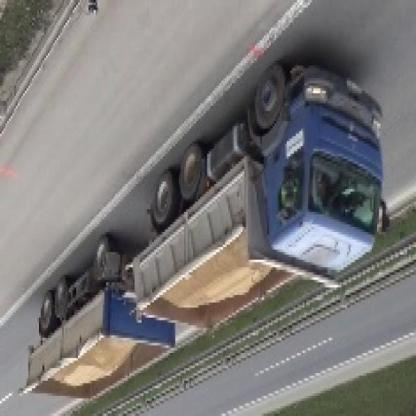truck: (28, 61, 392, 416)
